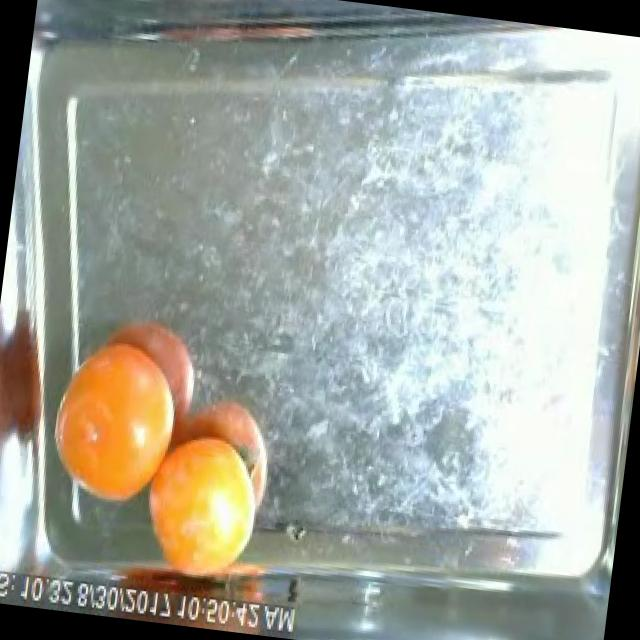Fruit: (36, 310, 192, 526), (122, 408, 291, 604)
